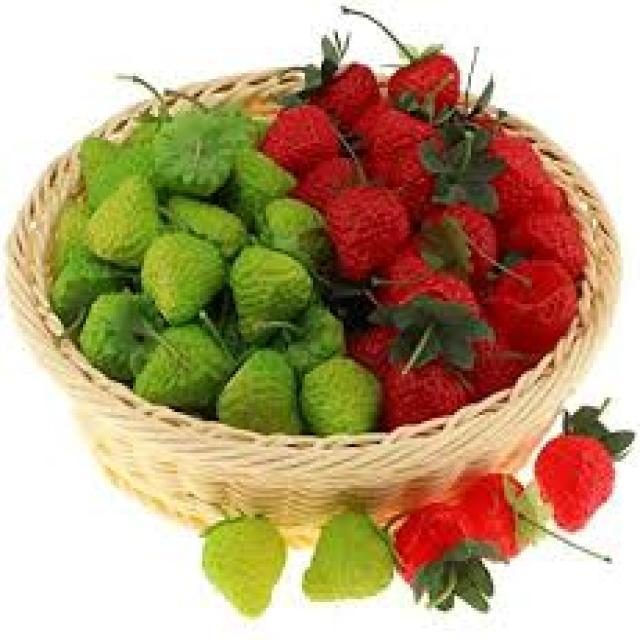straw-ripe: (538, 430, 616, 532), (328, 188, 407, 280), (390, 52, 460, 122)
straw-unripe: (304, 508, 395, 602), (202, 518, 286, 616), (136, 328, 238, 408), (232, 245, 314, 342), (218, 351, 302, 442), (144, 233, 224, 325), (304, 355, 380, 437), (91, 175, 160, 261)
